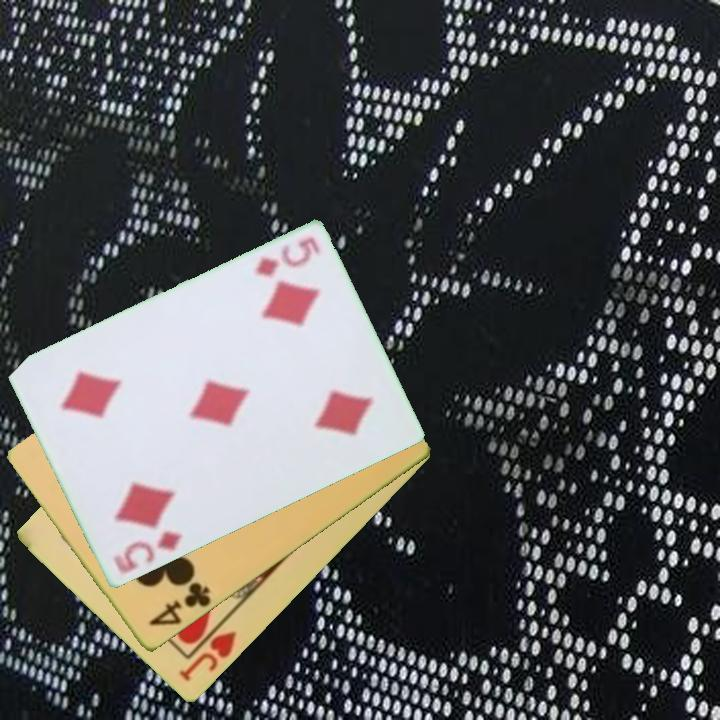4c: (145, 579, 214, 630)
5d: (109, 528, 186, 577), (251, 233, 322, 282)
Jh: (175, 614, 240, 685)
